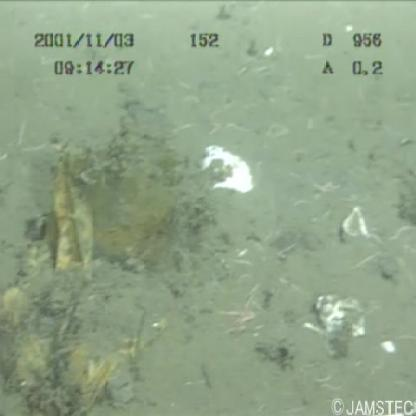Bio: (221, 292, 270, 335)
Rác: (4, 172, 178, 416)
